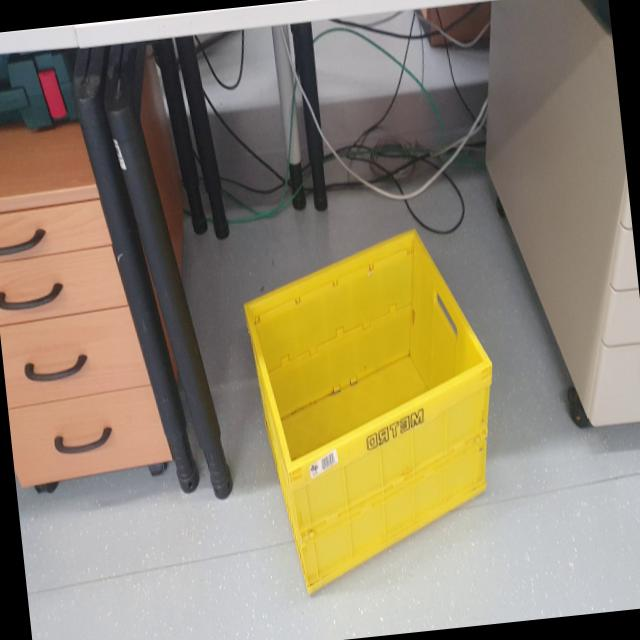box: (231, 204, 524, 601)
